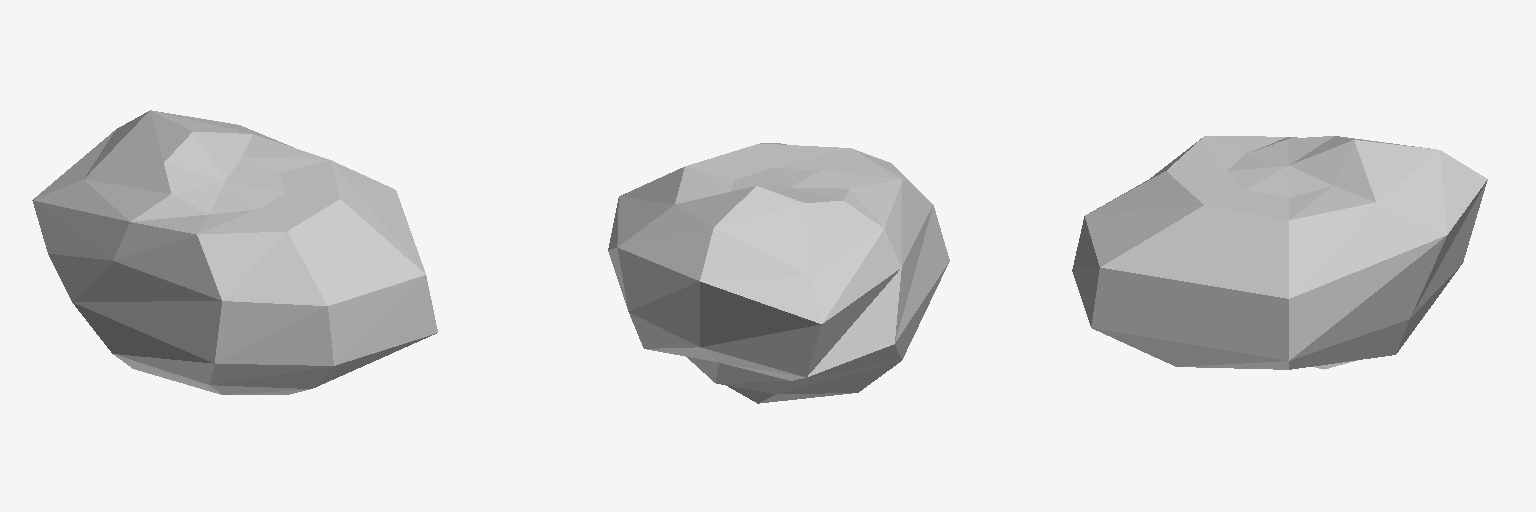
File: Rock2.obj
3 views of the same model, side by side, from view 1: azimuth 30°, elevation 25°; view 2: azimuth 150°, elevation 25°; view 3: azimuth 270°, elevation 25° (orthographic).
Parts seen in each view (by area): view 1: pSphere1; view 2: pSphere1; view 3: pSphere1.
Boxes of the visible parts, <box> form: pSphere1: <box>32,110,437,394</box>; pSphere1: <box>608,143,949,403</box>; pSphere1: <box>1072,136,1487,369</box>.
Size of the model in its own units: 21.91 by 13.97 by 25.39.